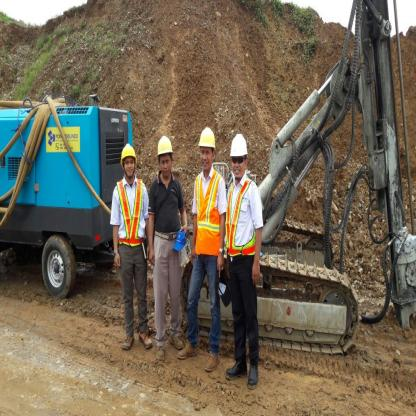person: (219, 116, 264, 391), (182, 86, 218, 381), (148, 126, 187, 361), (110, 139, 148, 358)
